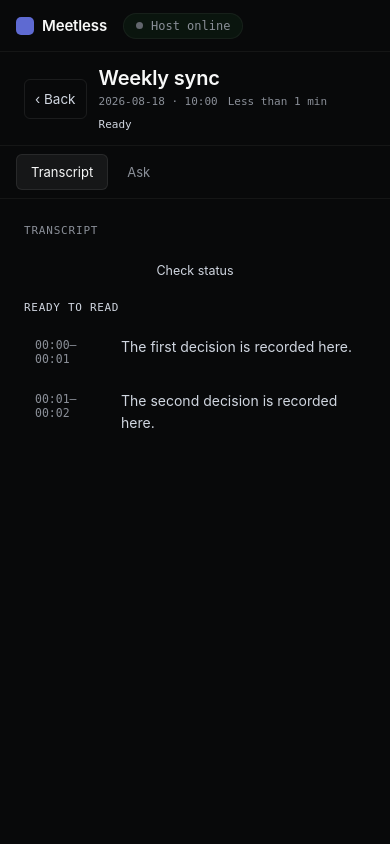
Scenario: new-design composition › uses a bottom-sheet dismissal target on phone
Click the tab with test id "task-tab-ask" at (139, 172), box [127,164,150,180]
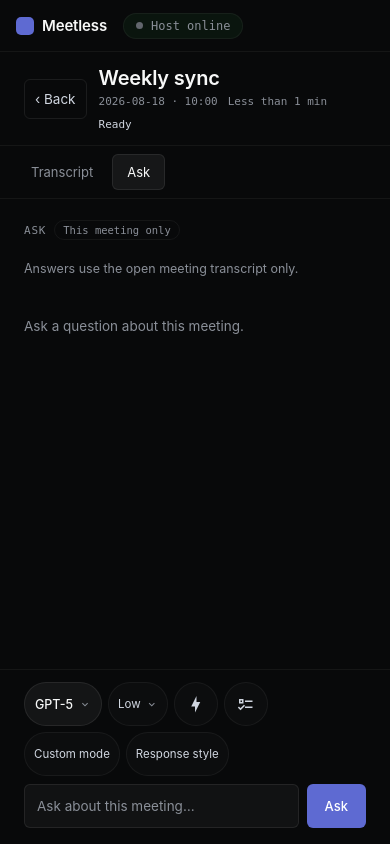
Click the button with test id "chat-model-trigger" at (63, 704), box [24,682,102,726]
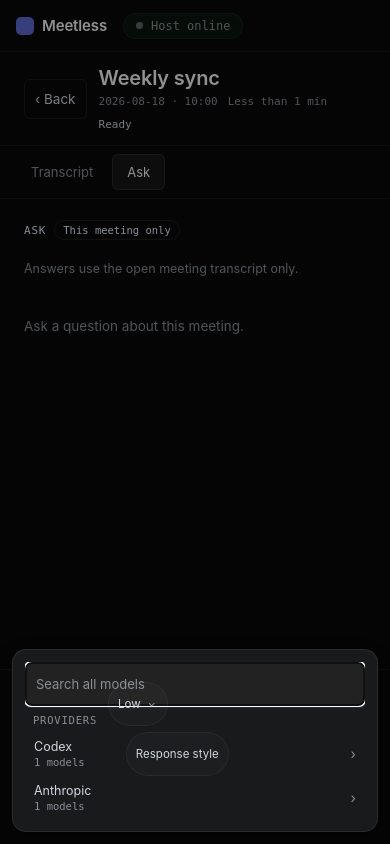
Now the button with test id "chat-model-picker-dismiss" is shown
Click the button with test id "chat-model-picker-dismiss" at (195, 422), box [0,0,389,843]
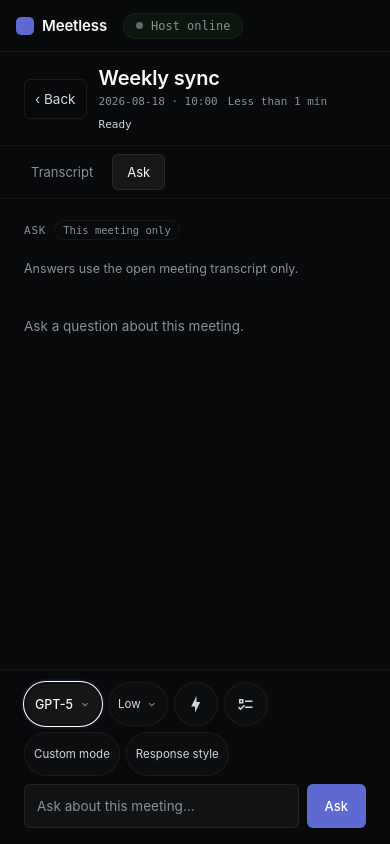
Now no elements with test id "chat-model-picker" are shown
